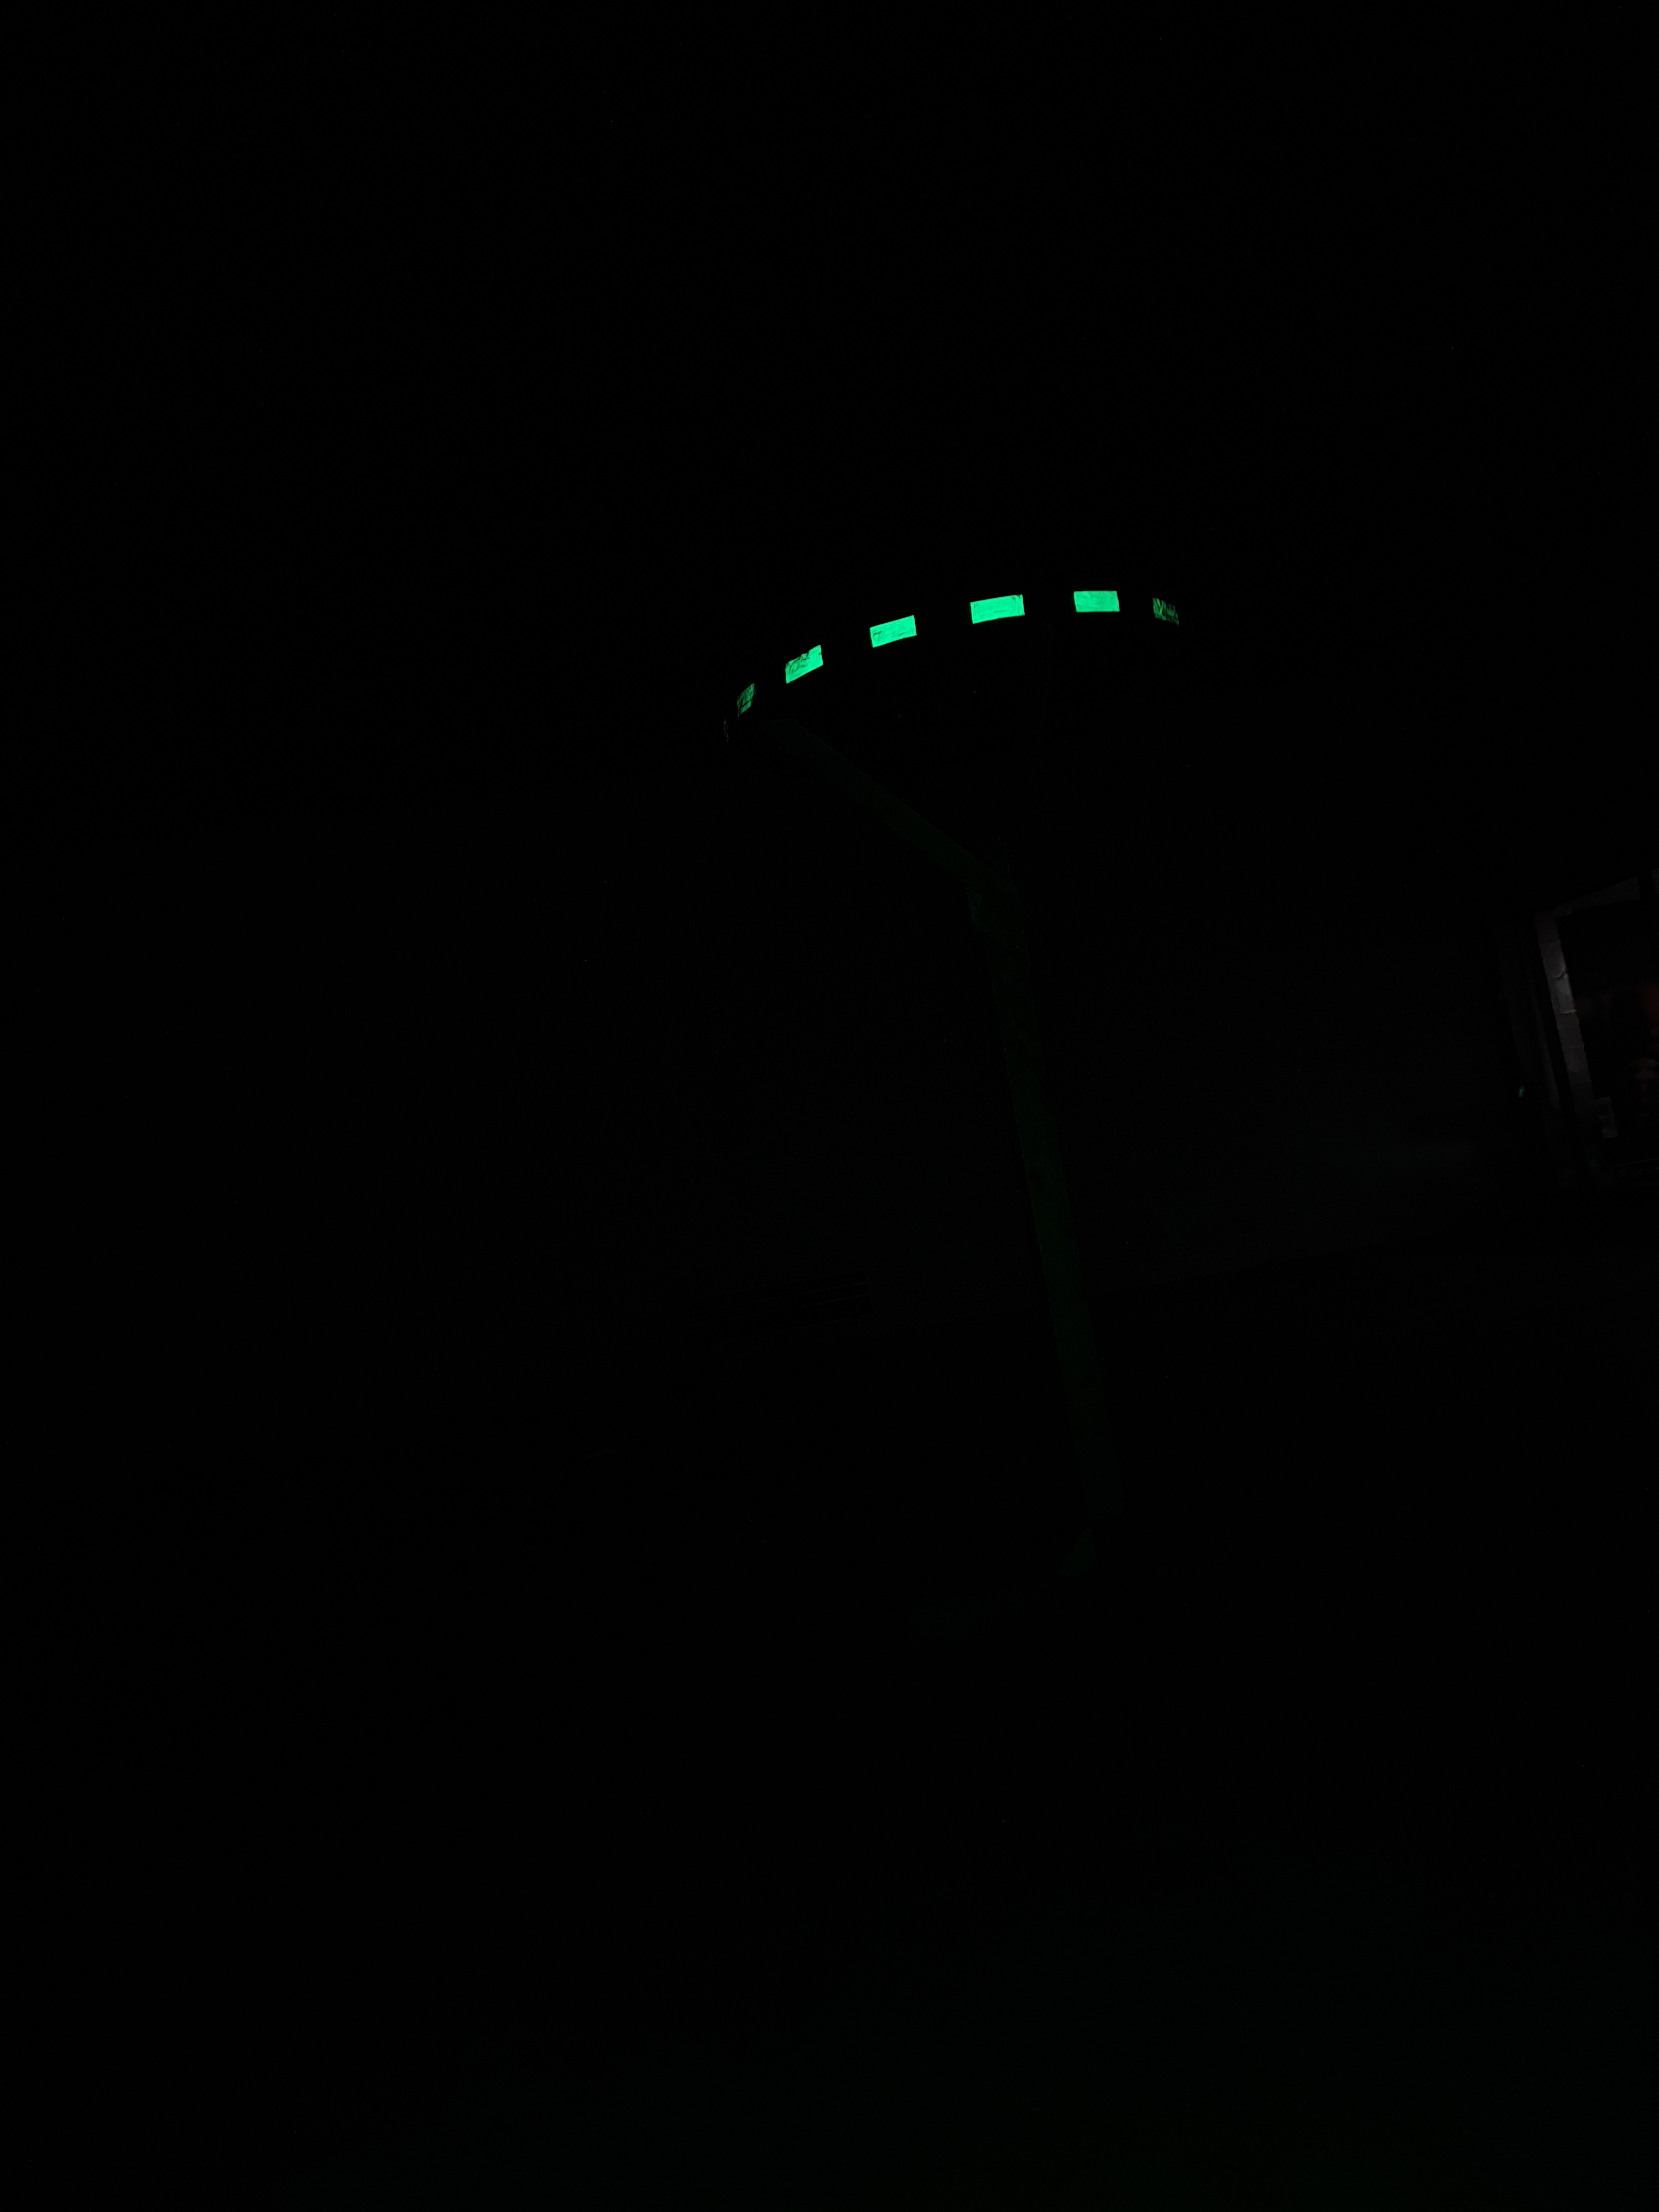hoop: (711, 549, 1215, 738)
